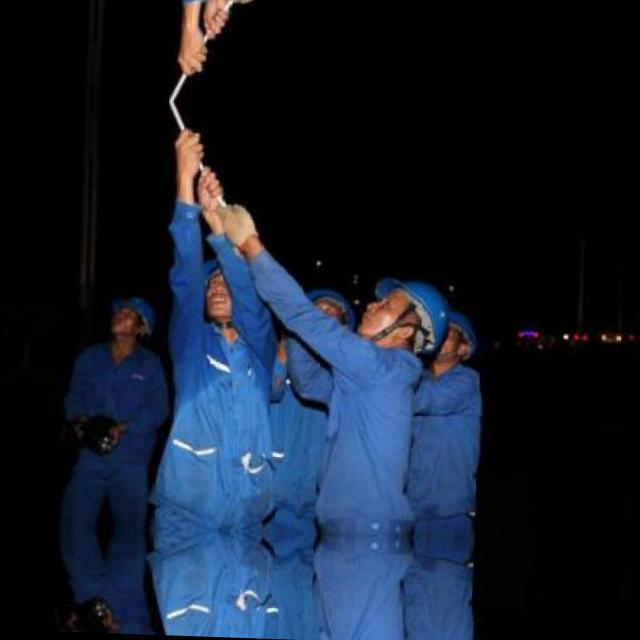helmet: (352, 272, 455, 352), (105, 293, 156, 356), (426, 310, 478, 367), (301, 282, 349, 338)
